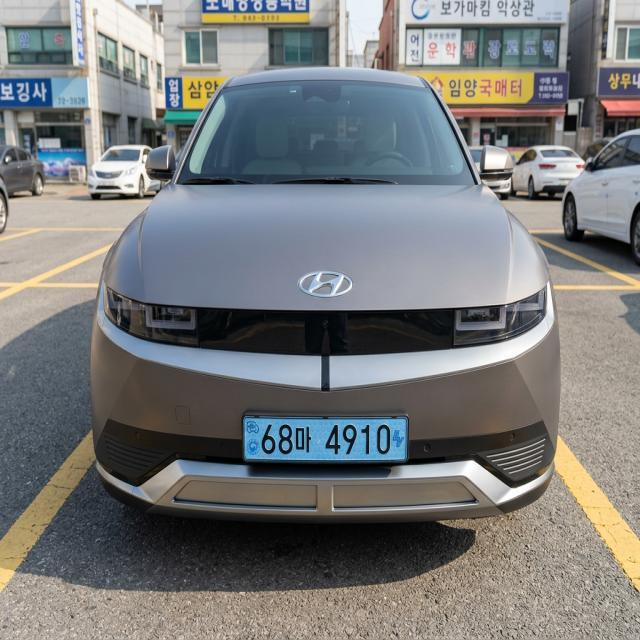car: (226, 401, 425, 479)
carev: (245, 419, 263, 466), (391, 414, 407, 463)
